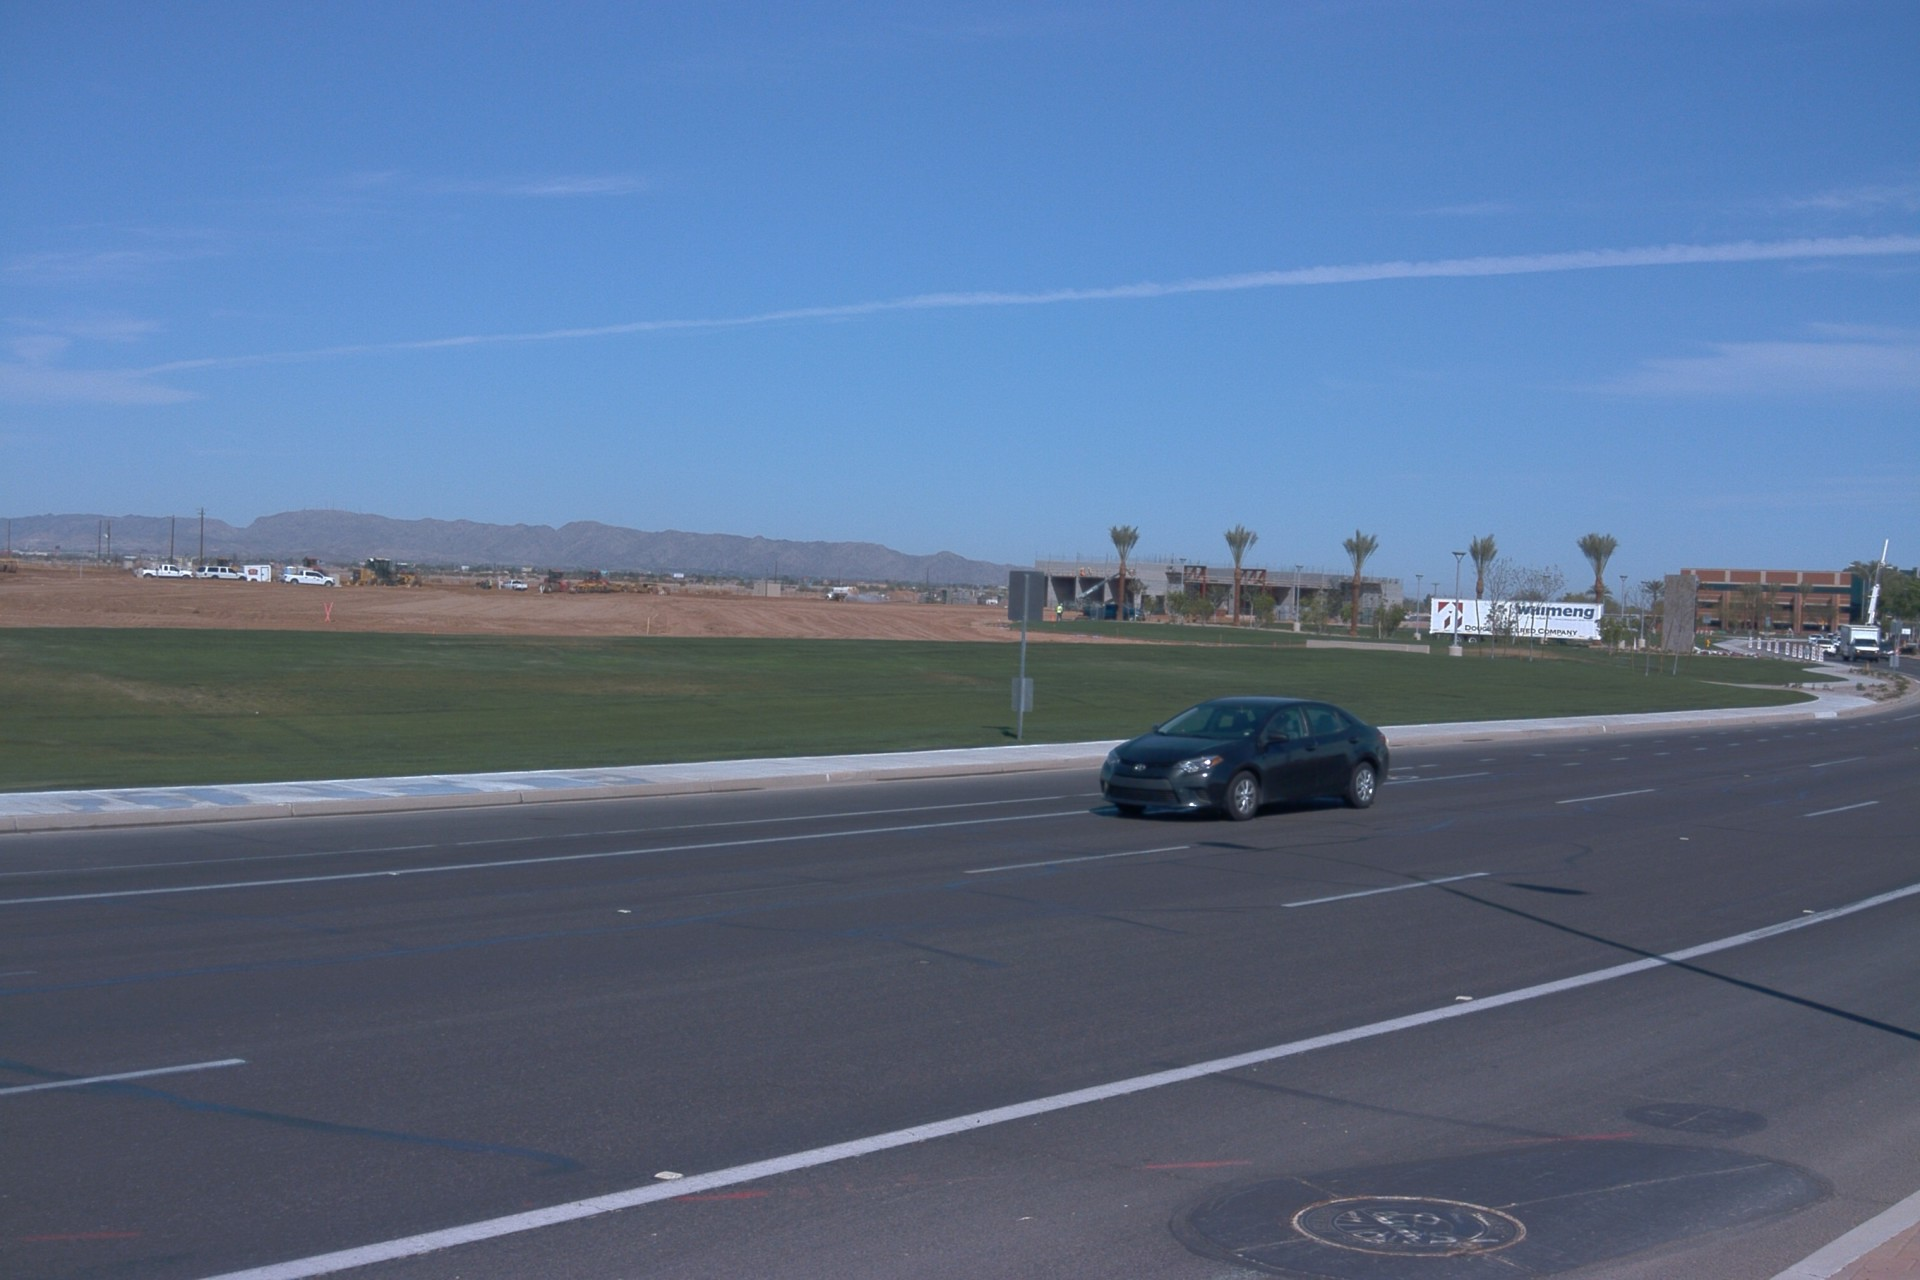TYPE_PEDESTRIAN: (1055, 602, 1065, 623), (488, 579, 493, 591)
TYPE_VEHICLE: (1097, 695, 1389, 819), (1429, 602, 1607, 654), (1076, 563, 1140, 609), (343, 558, 419, 591), (1864, 537, 1889, 627), (1840, 623, 1882, 664), (1084, 601, 1149, 623), (280, 573, 338, 591), (141, 563, 196, 581), (194, 566, 248, 584), (823, 587, 867, 607), (391, 562, 424, 587), (240, 566, 274, 586), (303, 557, 334, 575), (1813, 639, 1835, 659), (498, 576, 529, 589), (1876, 642, 1894, 663), (216, 559, 239, 573), (1808, 634, 1825, 645)
